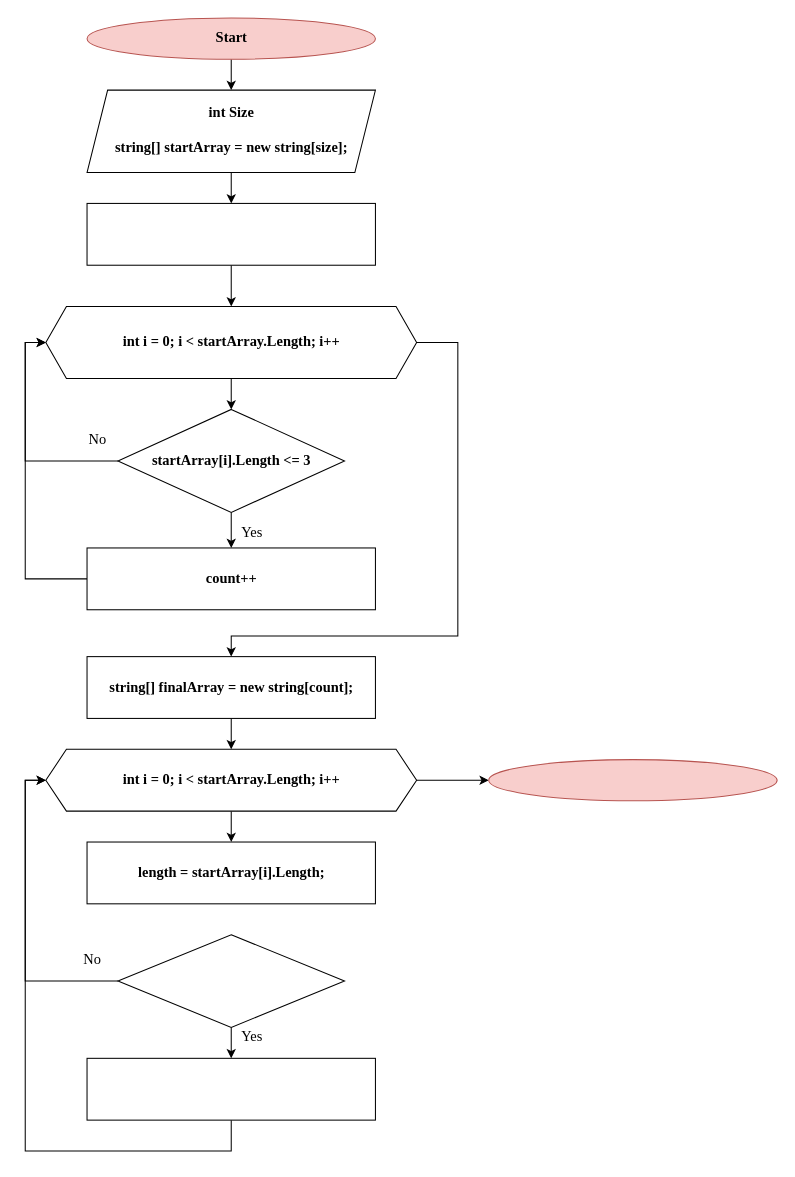
This 795x1177 diagram has some shape labels left out. The shapes that lost their labels are listed below. From the top down, each one's centre as x and y in pixels, then its label:
At pixel 230 233: "int length = 0; int count = 0;".
At pixel 632 780: "Final".
At pixel 231 980: "length <= 3".
At pixel 230 1088: "finalArray[count] = startArray[i]; count++;".
